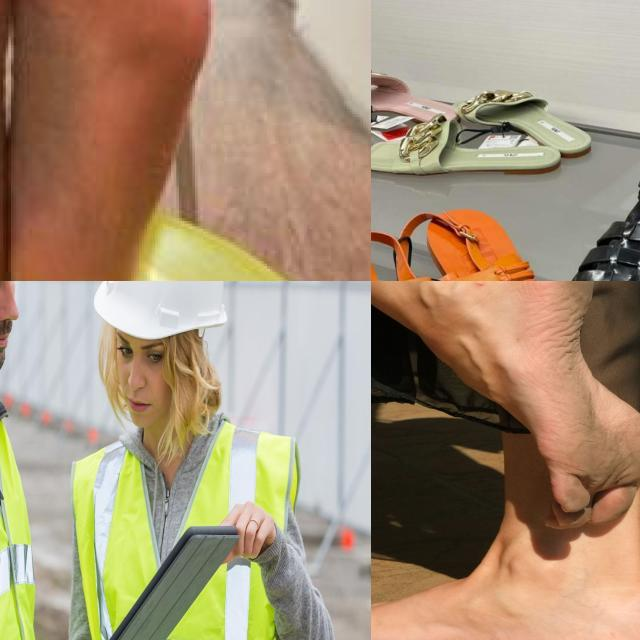Barefoots: (2, 0, 236, 281), (476, 281, 640, 530), (371, 575, 640, 640)
No_Glasses: (110, 337, 174, 369)
Sandals: (527, 100, 640, 281), (371, 198, 597, 281)
face_nomask: (116, 328, 179, 434), (0, 281, 26, 376)
hand_noglove: (218, 492, 286, 569)
head_helmet: (92, 281, 229, 341)
person: (71, 281, 335, 640)
vest: (69, 422, 306, 640)
